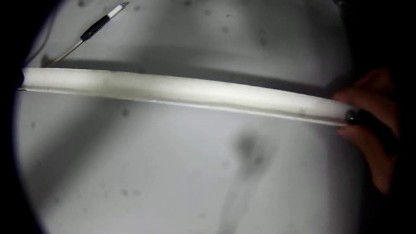gangzhu: (346, 109, 356, 121)
